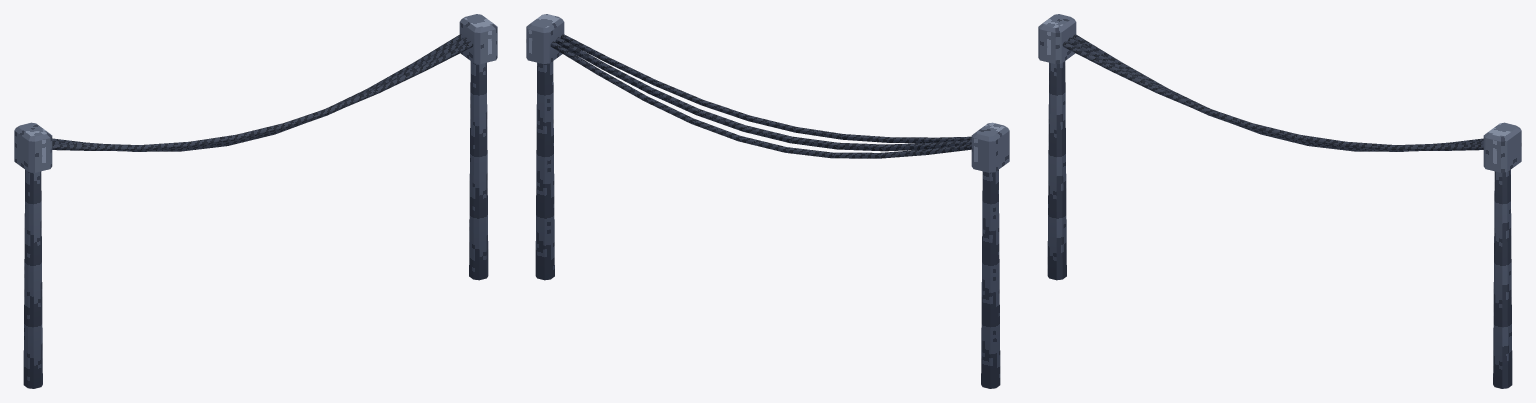
Rendered from tech.cables__hang.glb.
3 views of the same model, side by side, from view 1: azimuth 30°, elevation 25°; view 2: azimuth 150°, elevation 25°; view 3: azimuth 330°, elevation 25° (orthographic).
Parts seen in each view (by area): view 1: kit_posts, kit_boxes, kit_cable_0, kit_cable_1, kit_cable_2; view 2: kit_posts, kit_cable_1, kit_boxes, kit_cable_2, kit_cable_0; view 3: kit_posts, kit_boxes, kit_cable_0, kit_cable_1, kit_cable_2.
Boxes of the visible parts, x1,y1,x2,y2 form: kit_posts: (23, 61, 488, 388); kit_boxes: (14, 14, 497, 172); kit_cable_0: (52, 41, 473, 150); kit_cable_1: (52, 37, 468, 151); kit_cable_2: (52, 34, 463, 151); kit_posts: (535, 61, 1000, 388); kit_cable_1: (555, 37, 971, 151); kit_boxes: (526, 14, 1009, 172); kit_cable_2: (550, 41, 971, 158); kit_cable_0: (560, 34, 971, 143); kit_posts: (1047, 61, 1512, 388); kit_boxes: (1038, 14, 1521, 172); kit_cable_0: (1062, 41, 1483, 150); kit_cable_1: (1067, 37, 1483, 151); kit_cable_2: (1072, 34, 1483, 151).
Bounding box in the file's own units: 6 × 3.12 × 0.42.
3 materials, 3 textured.
